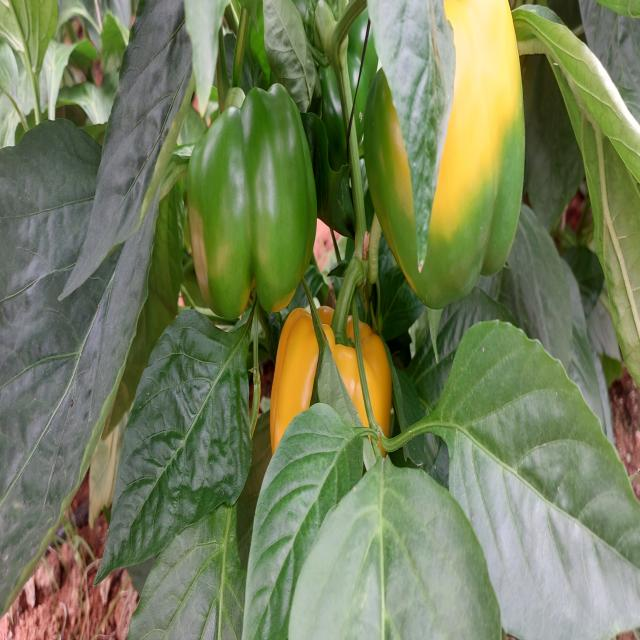Green--Not-ready-to-harvest: (197, 83, 328, 307)
GreenishYellow--Can-be-Harvested: (366, 12, 542, 304)
Yellow-Ready-to-Harvest: (276, 299, 396, 552)
